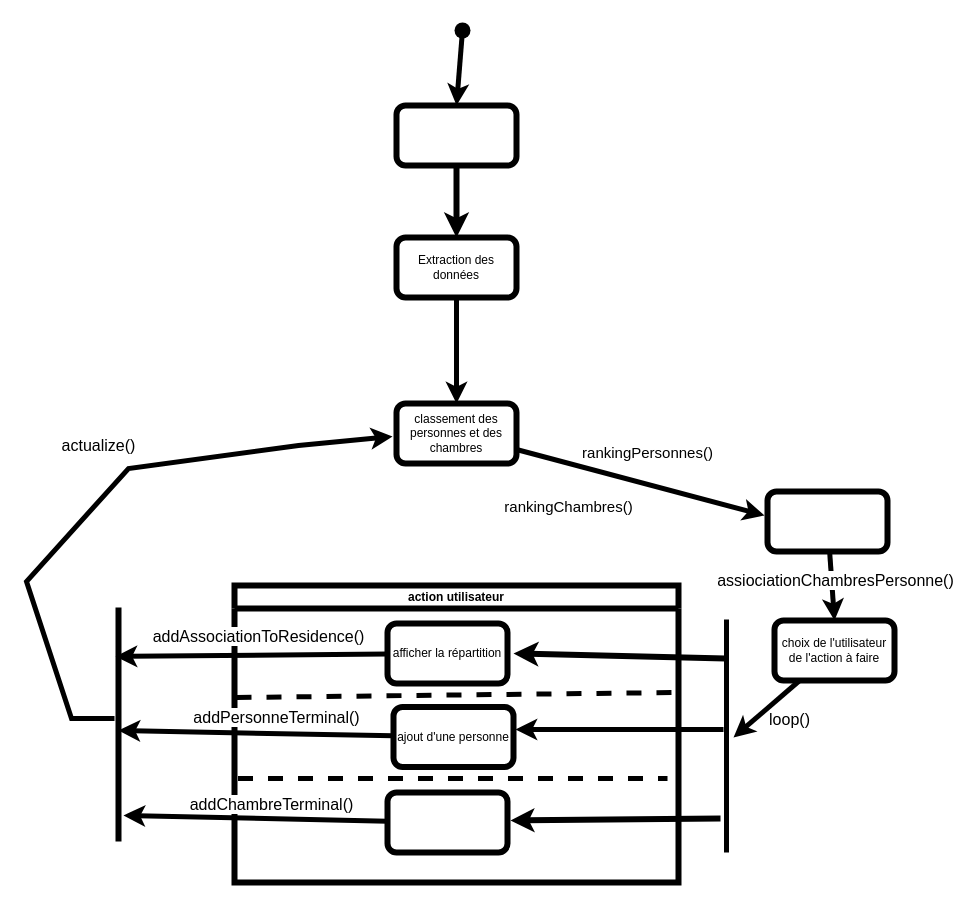
This 971x902 diagram has some shape labels left out. Here are the shapes that lost their labels. From the top down, the box of each, then its label:
(393, 102, 519, 168): Pas de données
(764, 488, 890, 554): répartition des chambres et des personnes
(384, 789, 510, 855): ajout d'une chambre
